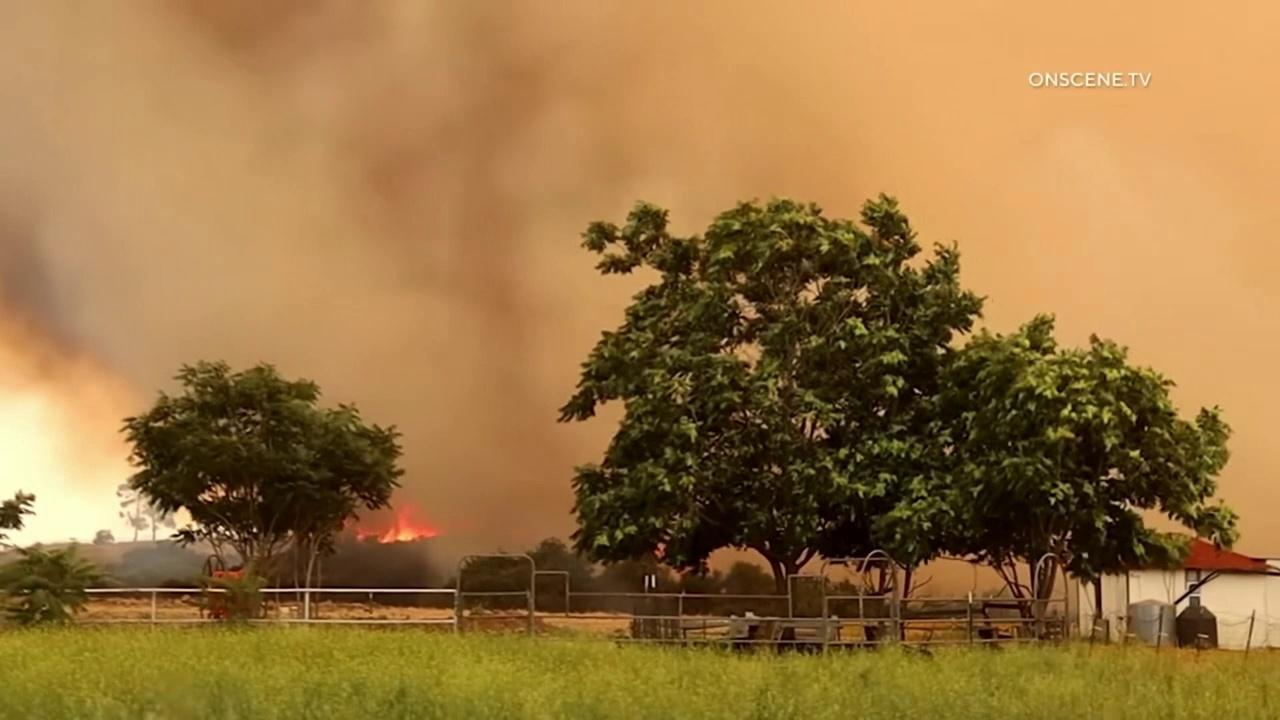fire: (343, 502, 438, 544)
smoke: (0, 0, 1280, 585)
